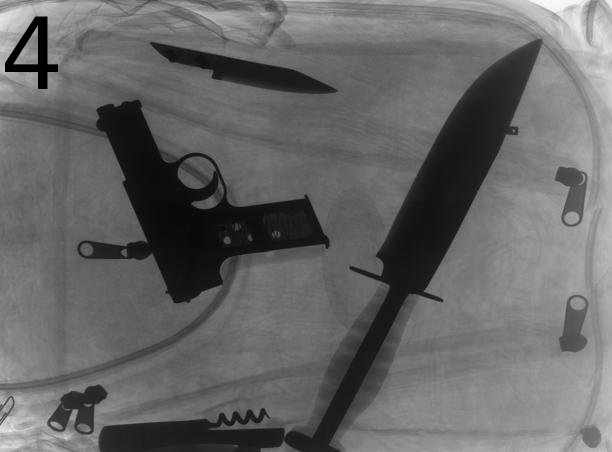Handgun: (91, 98, 333, 306)
Knife: (282, 34, 546, 452)
